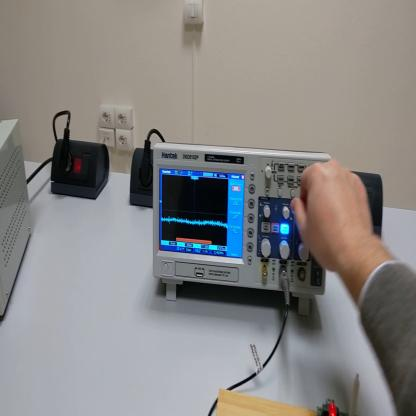hand: (292, 158, 375, 277)
low voltage board: (317, 375, 360, 416)
oscilloscope: (154, 144, 334, 318)
power supply: (2, 120, 32, 320)
socket: (51, 137, 111, 204), (130, 148, 154, 208)
working area: (217, 389, 317, 413)
